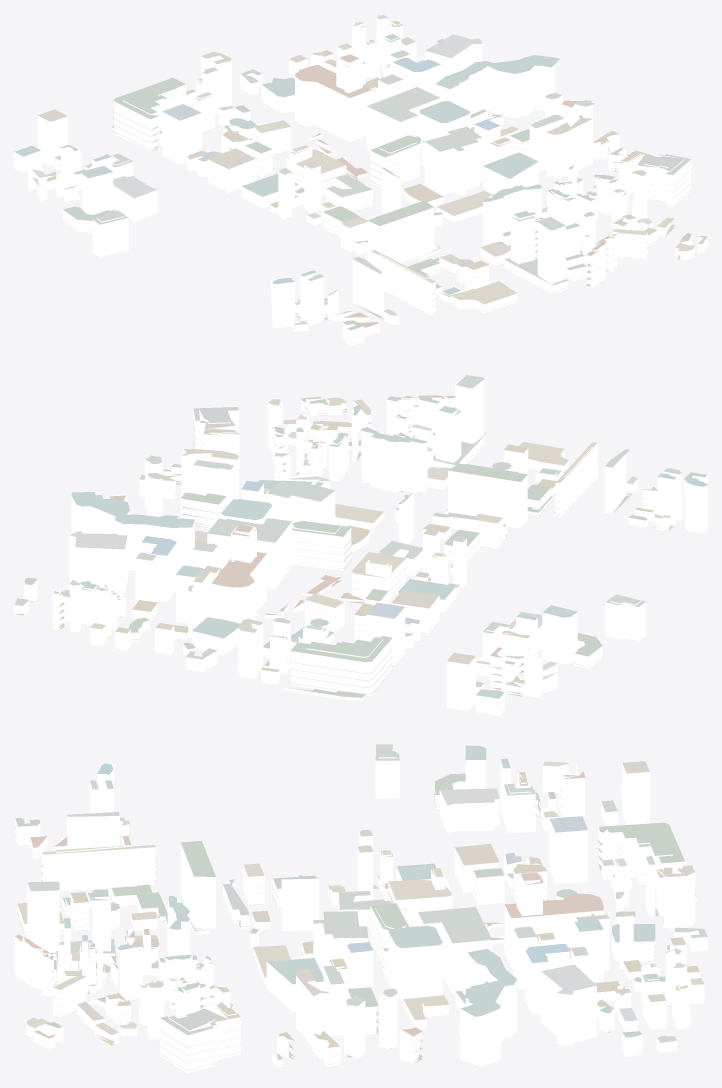
Rendered from buildings-8_0-coarse.glb.
3 views of the same model, one above another, from view 1: azimuth 30°, elevation 25°; view 2: azimuth 150°, elevation 25°; view 3: azimuth 270°, elevation 25° (orthographic). The views are drawn at different scales.
Visible parts, largest first — view 1: block_8_0_office, block_8_0_roof, block_8_0_residential; view 2: block_8_0_office, block_8_0_roof, block_8_0_residential; view 3: block_8_0_office, block_8_0_roof, block_8_0_residential.
Part boxes in pixels (x1,y1,x2,y2): block_8_0_office: (14,14,657,328); block_8_0_roof: (14,15,707,330); block_8_0_residential: (28,22,707,346); block_8_0_office: (14,376,707,715); block_8_0_roof: (14,375,707,713); block_8_0_residential: (52,394,707,700); block_8_0_office: (27,748,707,1067); block_8_0_roof: (14,744,707,1070); block_8_0_residential: (14,764,704,1073).
Bounding box in the file's own units: 654 × 91.9 × 658.
